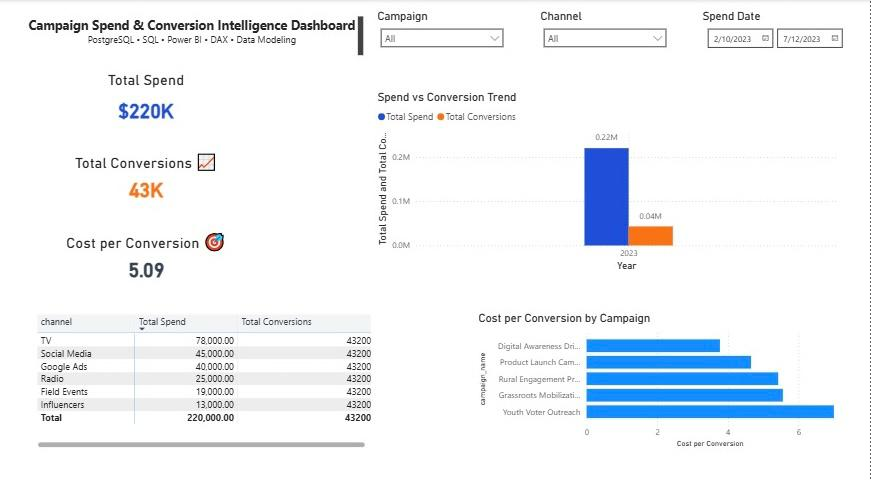

This screenshot's page, from the dashboard's own definition file:
{"tool":"powerbi","page":{"name":"Page 1","canvas":[1280,720],"ordinal":0},"visuals":[{"type":"card","title":"Total Spend ","fields":{"Values":["public campaign_conversions.Total Spend"]},"box":[92.6,105.8,249.8,89.6],"z":0},{"type":"card","title":"Total Conversions 📈","fields":{"Values":["public campaign_conversions.Total Conversions"]},"box":[92.6,222.6,249.8,89.6],"z":1000},{"type":"card","title":"Cost per Conversion 🎯","fields":{"Values":["public campaign_conversions.Cost per Conversion"]},"box":[92.6,339.4,249.8,91.1],"z":2000},{"type":"lineClusteredColumnComboChart","title":"Spend vs Conversion Trend","fields":{"Category":["public campaign_spend.spend_date.Variation.Date Hierarchy.Year","public campaign_spend.spend_date.Variation.Date Hierarchy.Quarter","public campaign_spend.spend_date.Variation.Date Hierarchy.Month","public campaign_spend.spend_date.Variation.Date Hierarchy.Day"],"Y":["public campaign_conversions.Total Spend","public campaign_conversions.Total Conversions"]},"box":[552.5,133.7,684.7,271.8],"z":3000},{"type":"clusteredBarChart","title":"Cost per Conversion by Campaign","fields":{"Category":["public campaigns.campaign_name"],"Y":["public campaign_conversions.Cost per Conversion"]},"box":[700.9,458.4,536.3,205.7],"z":4000},{"type":"pivotTable","fields":{"Rows":["public campaign_spend.channel"],"Values":["public campaign_conversions.Total Spend","public campaign_conversions.Total Conversions"]},"box":[52.9,458.4,499.6,205.7],"z":5000},{"type":"textbox","box":[36.7,20.6,505.5,67.6],"z":6000},{"type":"slicer","title":"Campaign","fields":{"Values":["public campaigns.campaign_name"]},"box":[552.5,14.7,200,70],"z":7000},{"type":"slicer","title":"Channel","fields":{"Values":["public campaign_spend.channel"]},"box":[791.3,14.7,200,70],"z":8000},{"type":"slicer","title":"Spend Date","fields":{"Values":["public campaign_spend.spend_date"]},"box":[1030,14.7,250,70],"z":9000}]}

Visuals, with their boxes in screenshot pixels (x1, y1, x2, y2), scaled from the page's 1280x720 canvas onto the 871x480 screenshot:
"Total Spend " card: [x1=63, y1=71, x2=233, y2=130]
"Total Conversions 📈" card: [x1=63, y1=148, x2=233, y2=208]
"Cost per Conversion 🎯" card: [x1=63, y1=226, x2=233, y2=287]
"Spend vs Conversion Trend" lineClusteredColumnComboChart: [x1=376, y1=89, x2=842, y2=270]
"Cost per Conversion by Campaign" clusteredBarChart: [x1=477, y1=306, x2=842, y2=443]
pivotTable - public campaign_spend.channel x public campaign_conversions.Total Spend: [x1=36, y1=306, x2=376, y2=443]
textbox: [x1=25, y1=14, x2=369, y2=59]
"Campaign" slicer: [x1=376, y1=10, x2=512, y2=56]
"Channel" slicer: [x1=538, y1=10, x2=675, y2=56]
"Spend Date" slicer: [x1=701, y1=10, x2=870, y2=56]
